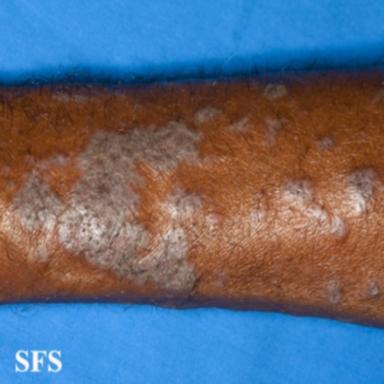lichen: (2, 118, 203, 292), (282, 177, 346, 238), (341, 162, 377, 217), (53, 89, 102, 103), (265, 116, 287, 146), (229, 112, 252, 134), (193, 106, 221, 124), (263, 83, 287, 99), (327, 280, 341, 304), (205, 213, 223, 230), (318, 136, 335, 149), (215, 270, 227, 288), (367, 280, 379, 297)
